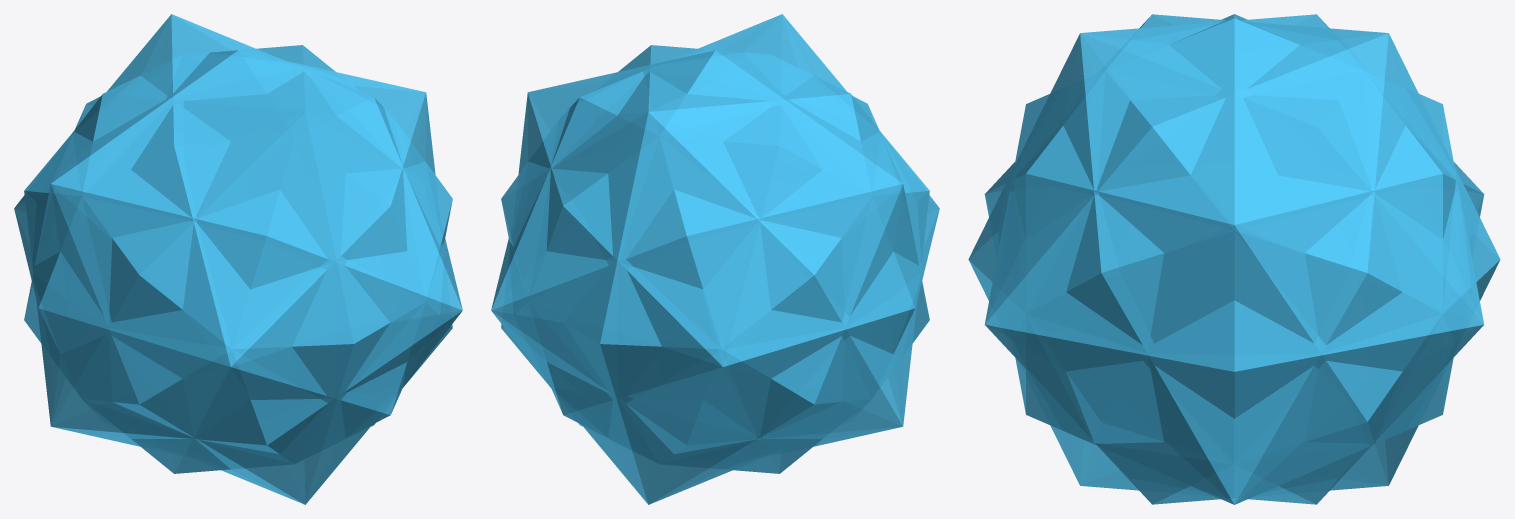
File: MedialDeltoidalHexecontahedron.obj
3 views of the same model, side by side, from view 1: azimuth 30°, elevation 25°; view 2: azimuth 150°, elevation 25°; view 3: azimuth 270°, elevation 25° (orthographic). The views are drawn at different scales.
Size of the model in its own units: 2.68 by 2.68 by 2.68.
